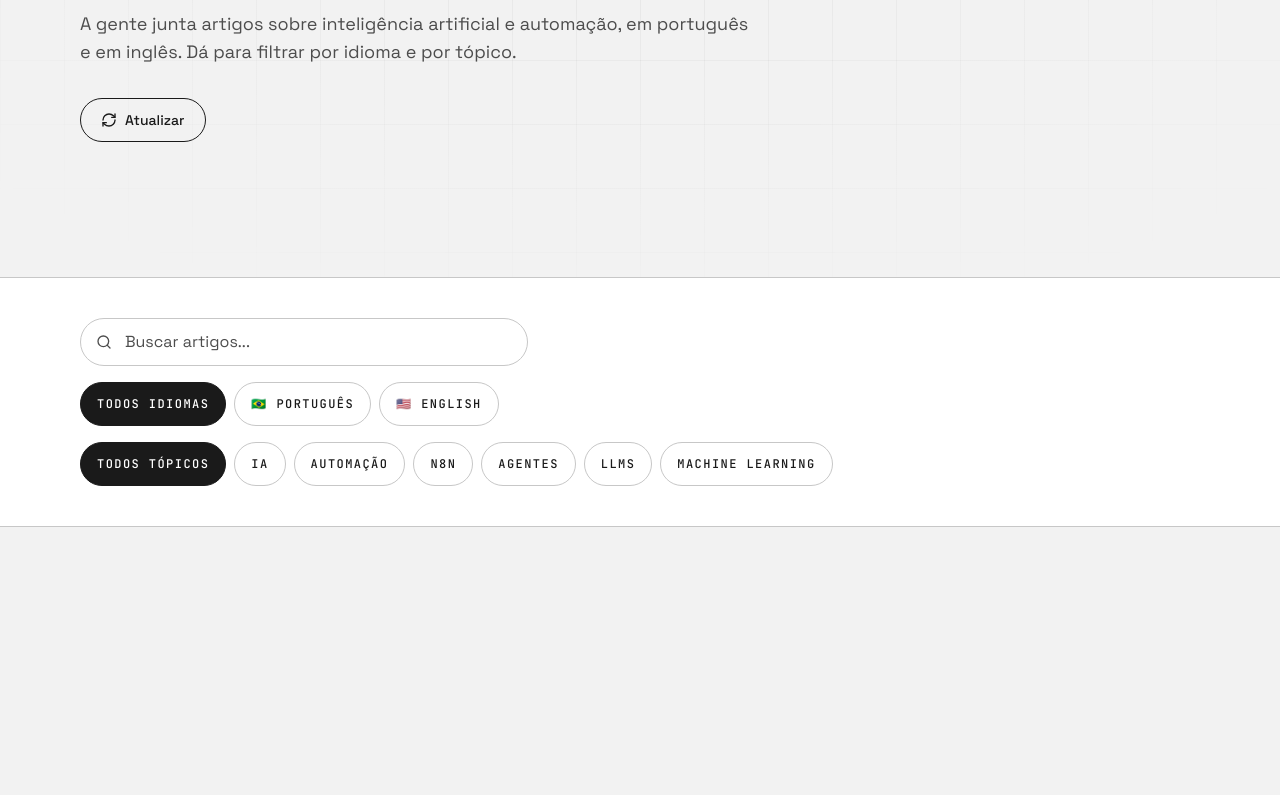
BlogPage filters › filters by language and counts what is left
(page scrolled)
Click the button "🇺🇸 English": [439, 404] box [379, 382, 499, 426]
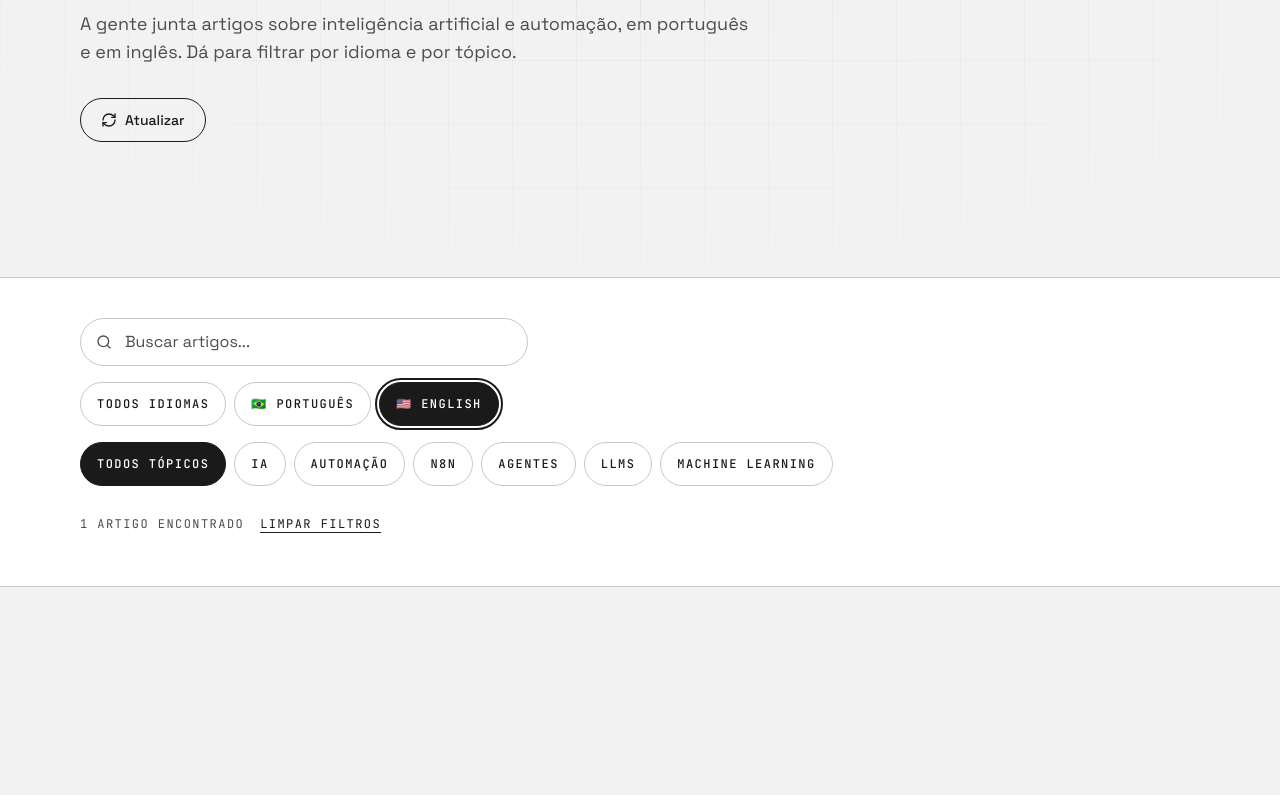
expect the text "1 artigo encontrado" is shown: met, box [80, 516, 244, 532]
